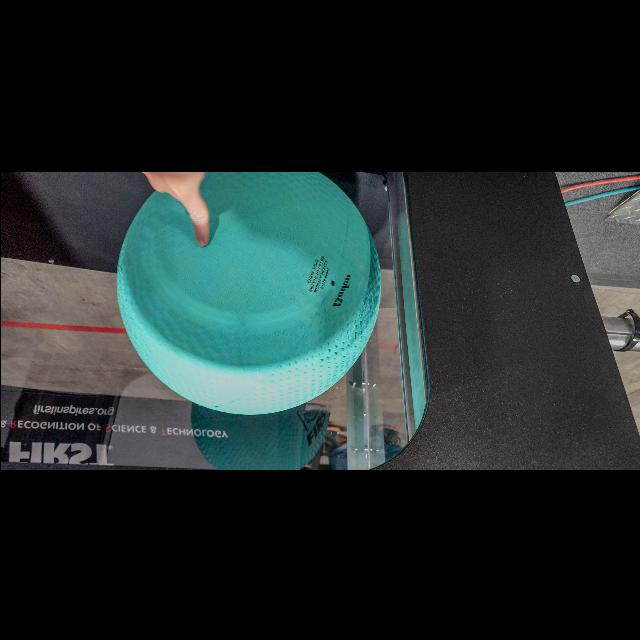ALGAE: (114, 171, 382, 413)
